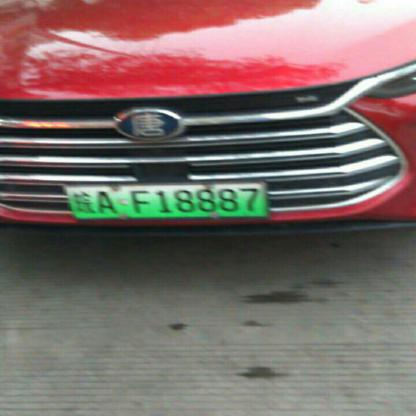lp: (64, 181, 267, 219)
